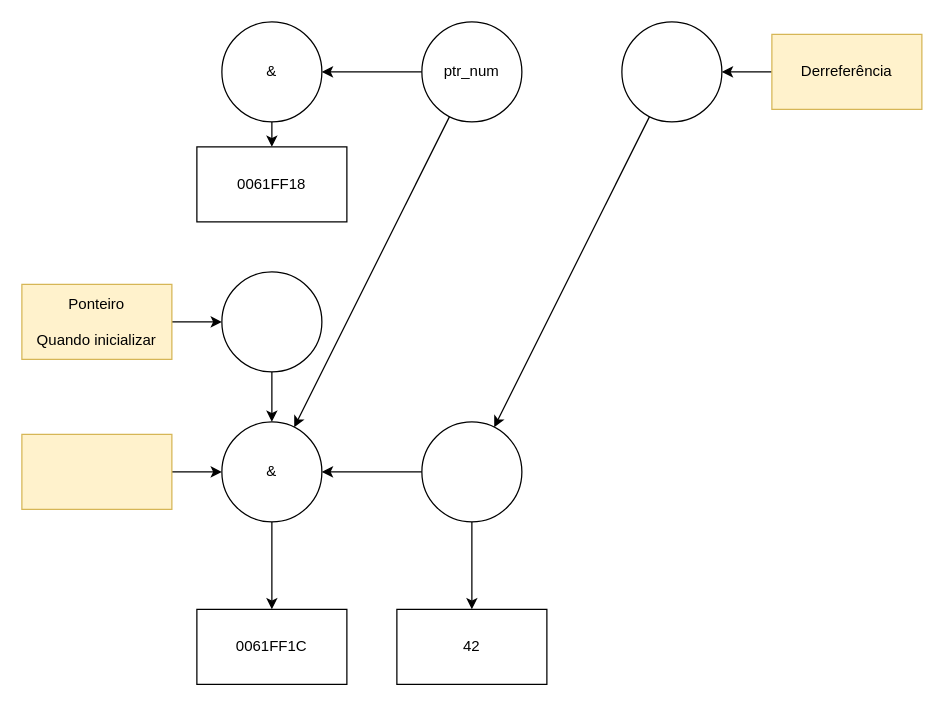
The diagram is 944 pixels wide and 706 high, and some of its shapes have lost their labels. The shapes that lost their labels are listed below. From the top down, each one's centre as x and y in pixels, then its label:
At (x=671, y=71): "*ptr_num".
At (x=271, y=321): "int *ptr_num".
At (x=96, y=471): "Referência & de &ndereço".
At (x=471, y=471): "int num".
